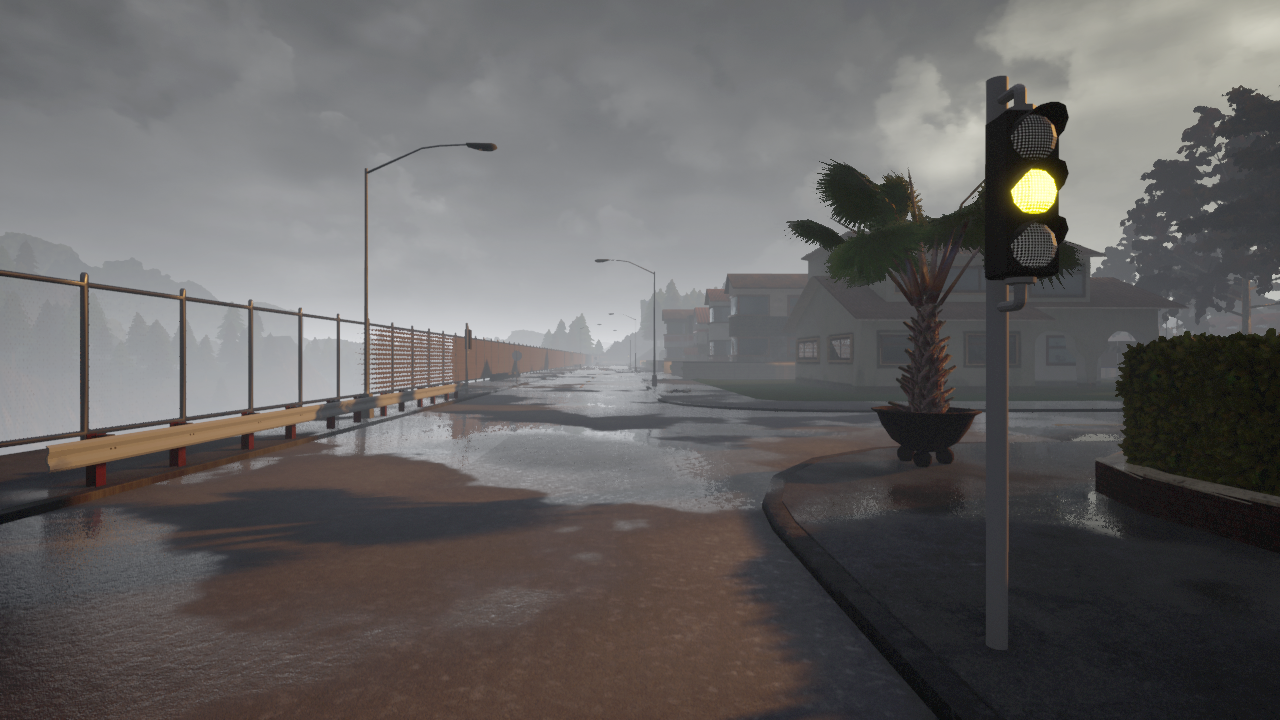yellow: (988, 111, 1072, 277)
